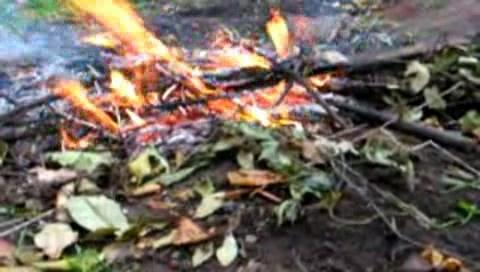fire: (55, 0, 305, 118)
